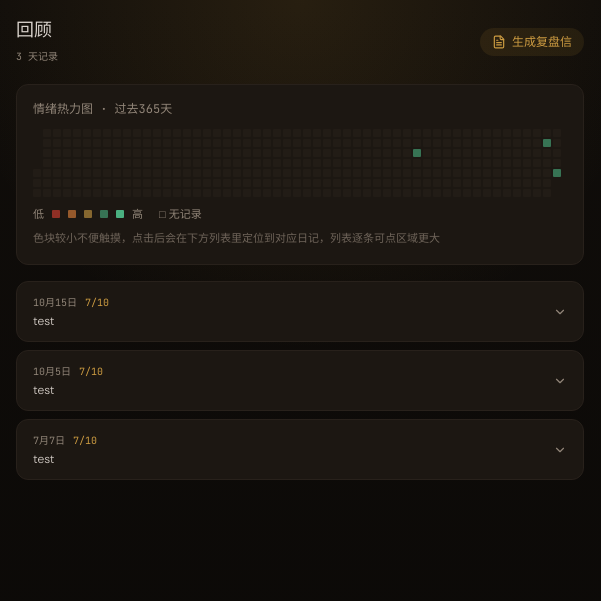
HistoryPage heatmap 点击跳转到列表 (BUG-09 二次整改) › 点击有记录的色块后，下方列表对应日期的记录会展开显示详情
The image size is (601, 601).
Expected: the text "删除" is not shown
Click the button named "2026-10-15 7/10 点击跳转到下方对应记录". click: (557, 173)
box: x1=553 y1=169 x2=561 y2=177
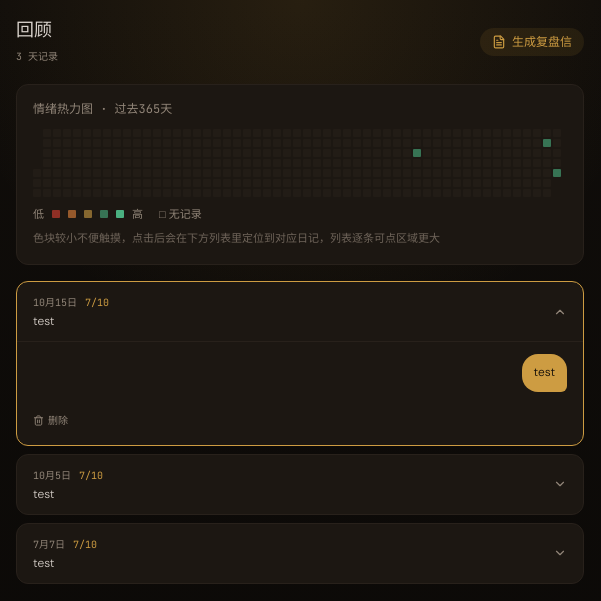
Result: the button "删除" is shown at x1=33 y1=412 x2=68 y2=429
